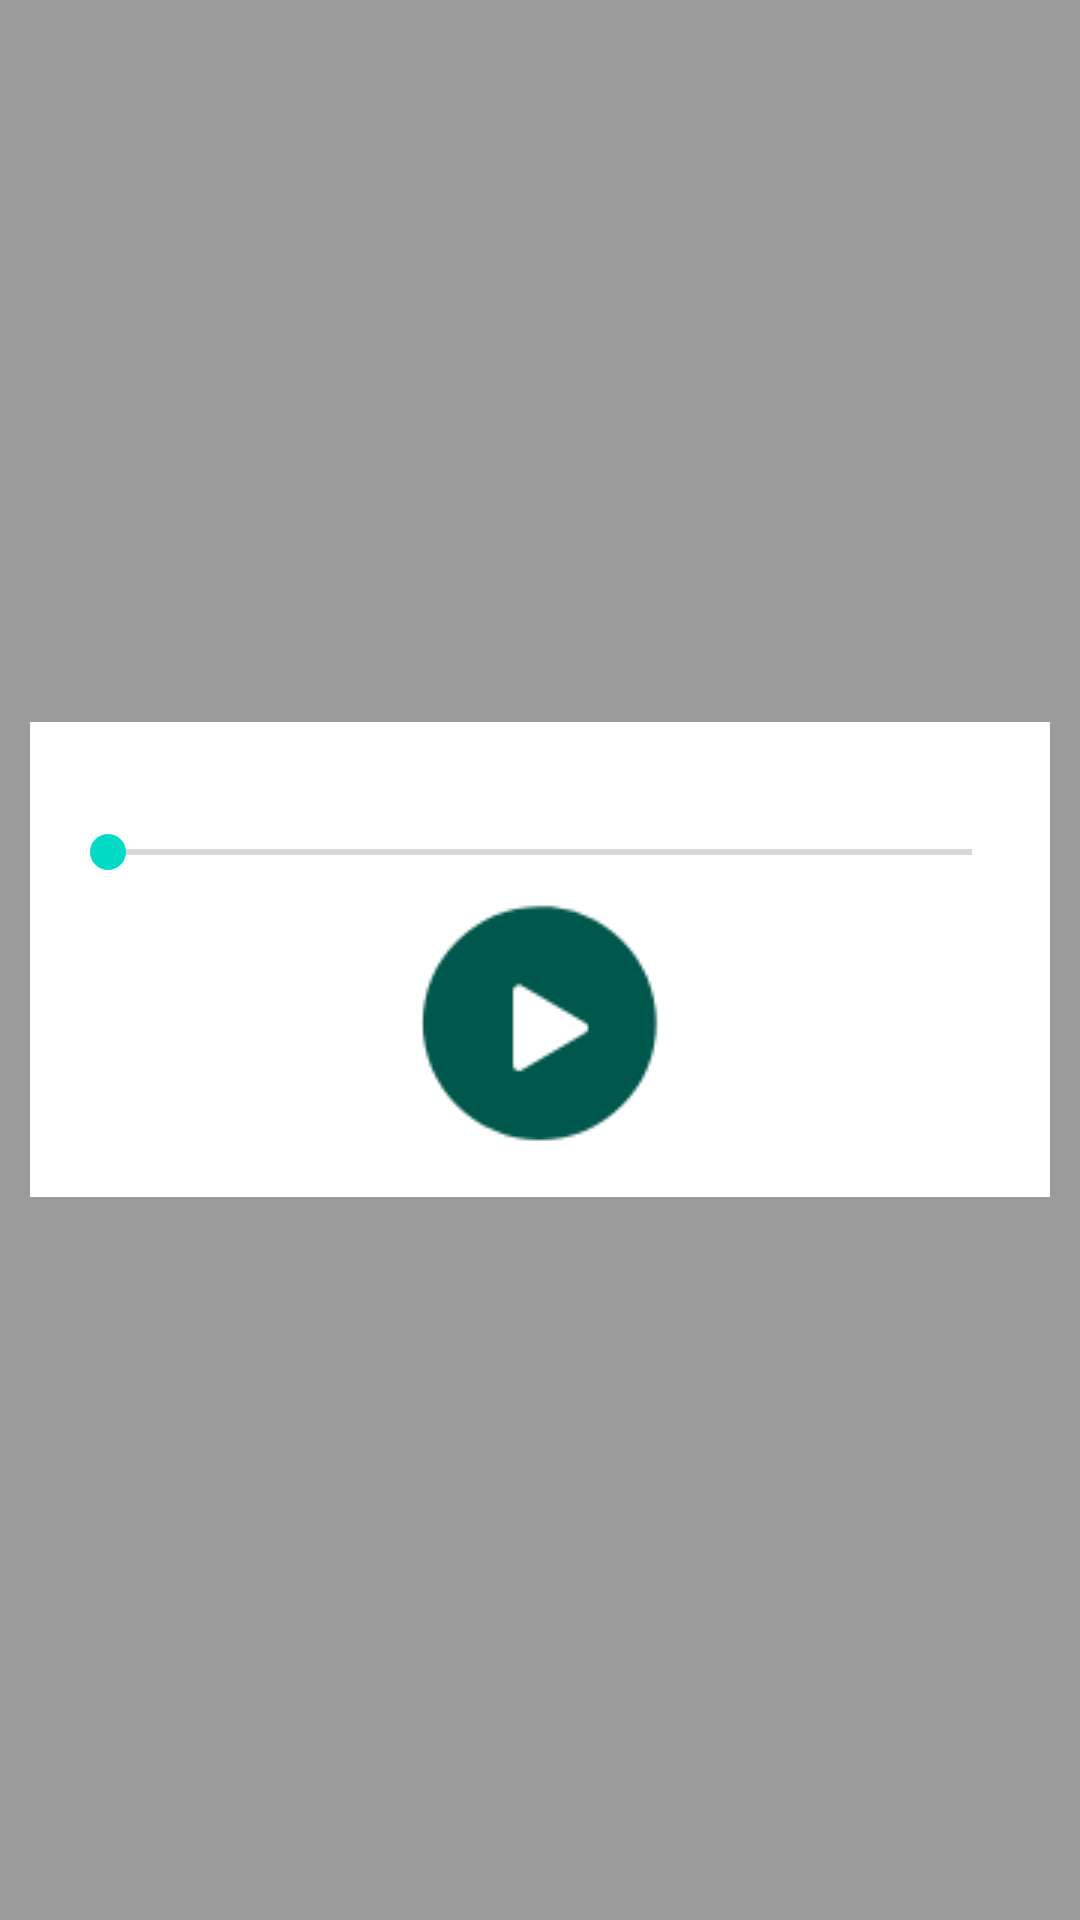

Icons on this 1080x1920 Android screen, each with the point to tap as point (x, y):
play: point (540, 1023)
